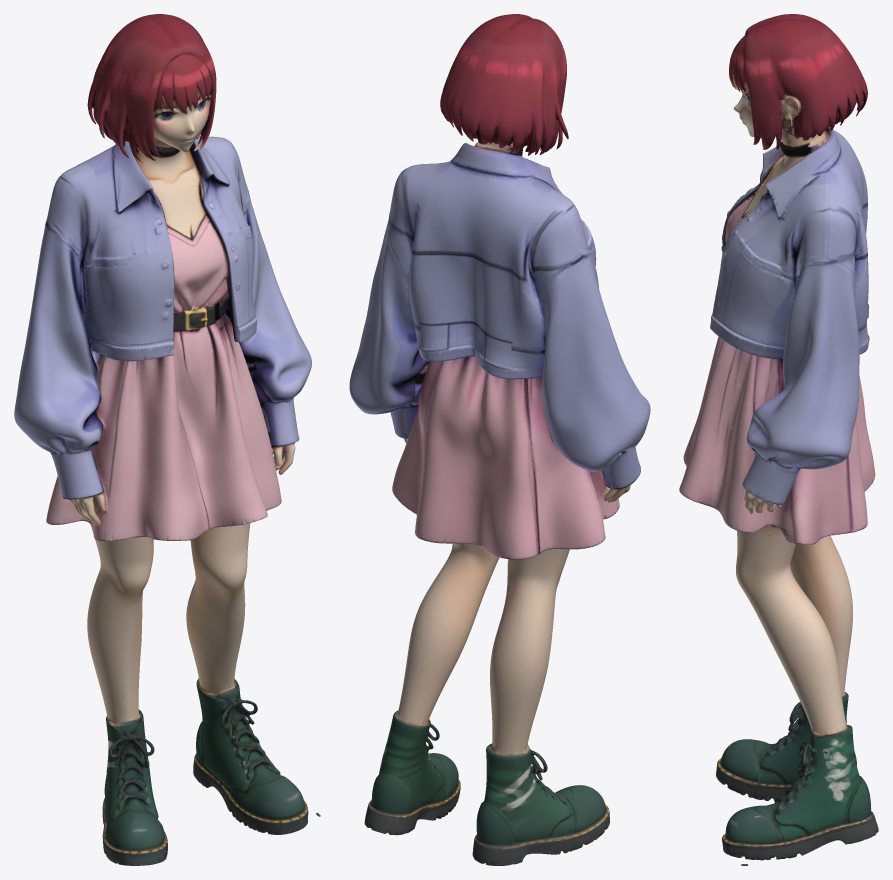
Rendered from AnimeCharacter.glb.
The picture shows the model from 3 angles, left to right: view 1: azimuth 30°, elevation 25°; view 2: azimuth 150°, elevation 25°; view 3: azimuth 270°, elevation 25°; orthographic projection. The views are drawn at different scales.
Bounding box in the file's own units: 0.6891 × 1.9 × 0.4357.
Materials: 1 (1 with a texture image).
